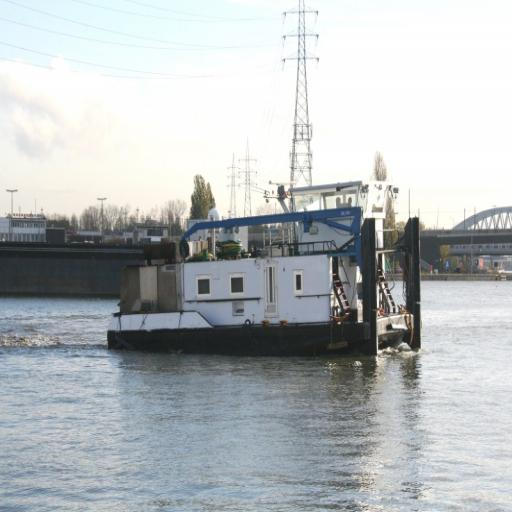tugboat: (105, 183, 425, 364)
